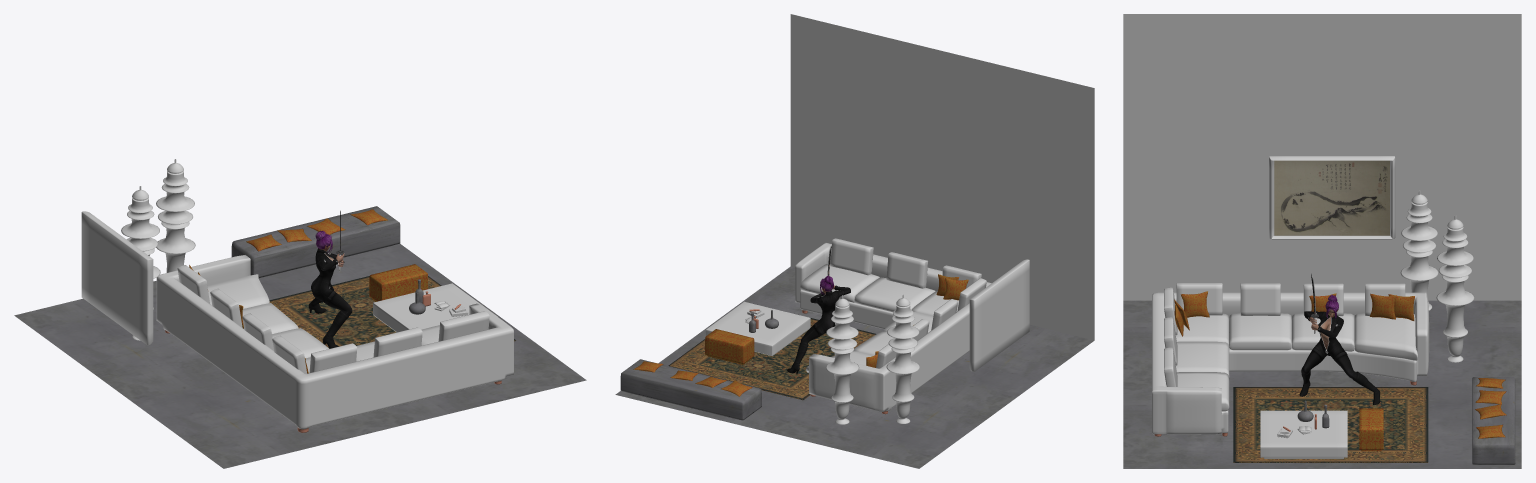
Rendered from zenroom3.gltf.
3 views of the same model, side by side, from view 1: azimuth 30°, elevation 25°; view 2: azimuth 150°, elevation 25°; view 3: azimuth 270°, elevation 25° (orthographic). The views are drawn at different scales.
Visible parts, largest first — view 1: polySurface38, polySurface4, polySurface12, polySurface11, polySurface3, polySurface14, polySurface1, Model001_26_suit_0.3_0_0, polySurface13, polySurface2, polySurface10, polySurface25 (+8 smaller); view 2: polySurface38, polySurface4, polySurface3, polySurface12, polySurface11, polySurface1, polySurface14, polySurface13, polySurface6, polySurface2, polySurface5, Model001_26_suit_0.3_0_0 (+4 smaller); view 3: polySurface38, polySurface4, polySurface12, polySurface3, polySurface1, polySurface14, polySurface11, polySurface10, polySurface13, polySurface8, Model001_26_suit_0.3_0_0, polySurface6 (+13 smaller).
Part boxes in pixels (left/top/right/bottom): polySurface38: left=14, top=243, right=586, bottom=468; polySurface4: left=156, top=255, right=513, bottom=432; polySurface12: left=81, top=211, right=153, bottom=345; polySurface11: left=231, top=206, right=400, bottom=278; polySurface3: left=269, top=276, right=515, bottom=348; polySurface14: left=156, top=159, right=195, bottom=272; polySurface1: left=373, top=283, right=497, bottom=332; Model001_26_suit_0.3_0_0: left=308, top=248, right=352, bottom=348; polySurface13: left=121, top=186, right=160, bottom=340; polySurface2: left=369, top=264, right=427, bottom=301; polySurface10: left=207, top=274, right=269, bottom=308; polySurface25: left=438, top=311, right=489, bottom=341; polySurface38: left=615, top=14, right=1094, bottom=468; polySurface4: left=795, top=243, right=991, bottom=414; polySurface3: left=668, top=318, right=876, bottom=400; polySurface12: left=969, top=259, right=1029, bottom=371; polySurface11: left=620, top=359, right=761, bottom=420; polySurface1: left=706, top=301, right=810, bottom=355; polySurface14: left=825, top=295, right=859, bottom=424; polySurface13: left=886, top=294, right=919, bottom=423; polySurface6: left=854, top=277, right=935, bottom=312; polySurface2: left=705, top=329, right=754, bottom=364; polySurface5: left=800, top=264, right=879, bottom=302; Model001_26_suit_0.3_0_0: left=787, top=285, right=850, bottom=374; polySurface38: left=1123, top=14, right=1521, bottom=468; polySurface4: left=1152, top=292, right=1429, bottom=436; polySurface12: left=1269, top=156, right=1395, bottom=239; polySurface3: left=1233, top=387, right=1428, bottom=462; polySurface1: left=1260, top=410, right=1347, bottom=458; polySurface14: left=1436, top=215, right=1474, bottom=362; polySurface11: left=1472, top=377, right=1515, bottom=464; polySurface10: left=1354, top=313, right=1417, bottom=360; polySurface13: left=1400, top=190, right=1438, bottom=310; polySurface8: left=1229, top=313, right=1291, bottom=350; Model001_26_suit_0.3_0_0: left=1299, top=311, right=1380, bottom=404; polySurface6: left=1176, top=341, right=1229, bottom=377.
Size of what is drawn, in the model's own units: 0.24 by 0.1904 by 0.24.
